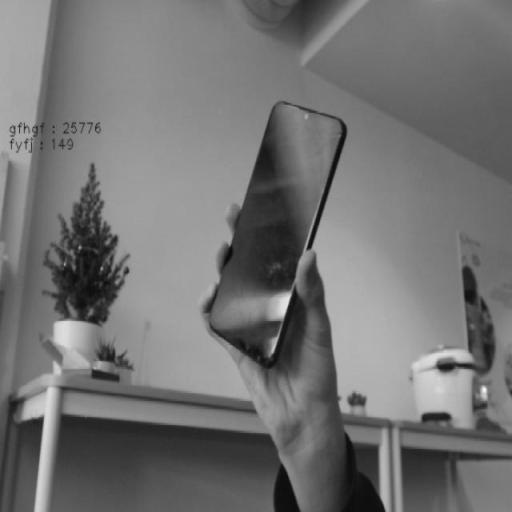phone: (195, 104, 350, 373)
